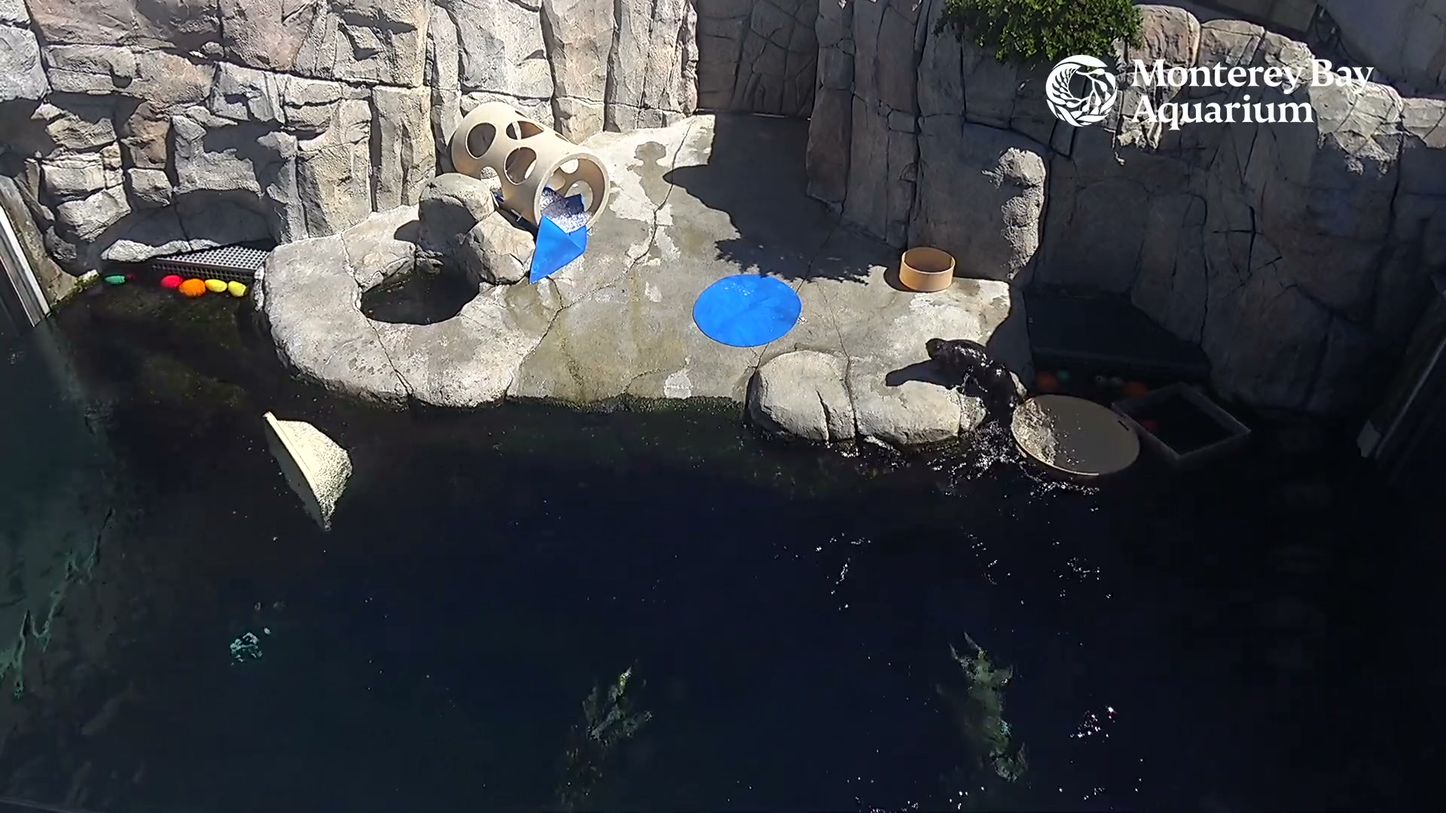Southern Sea Otter: (904, 295, 1057, 449)
